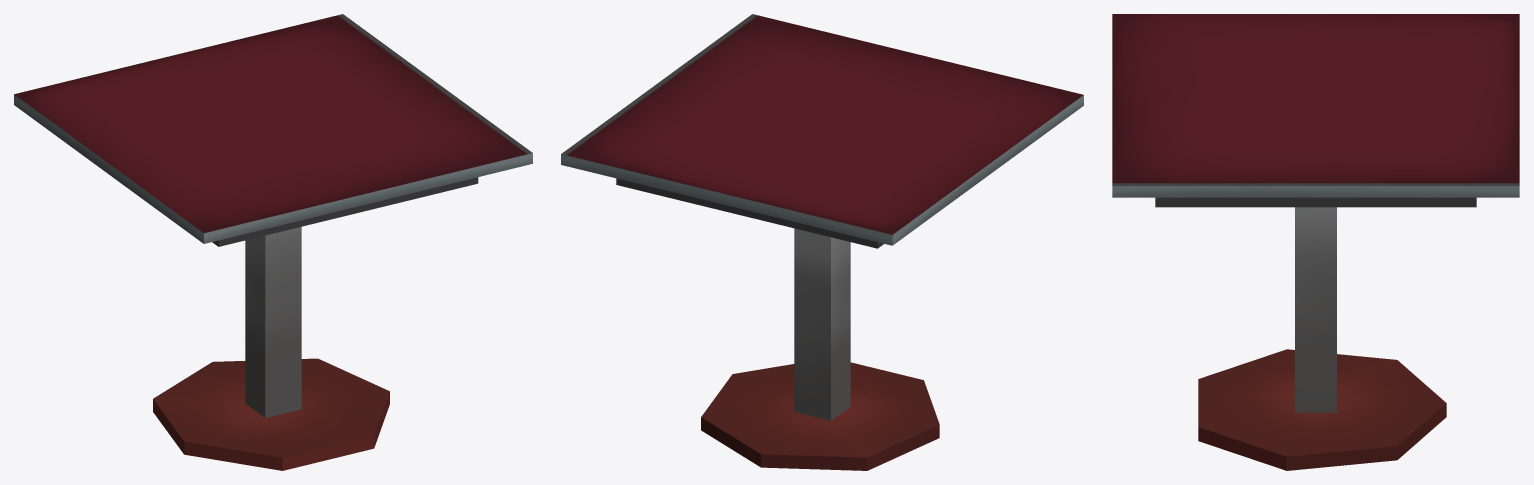
Rendered from CityKit_RestaurantTable.fbx.
3 renders of one model, left to right at view 1: azimuth 30°, elevation 25°; view 2: azimuth 150°, elevation 25°; view 3: azimuth 270°, elevation 25°, orthographic. The views are drawn at different scales.
Parts seen in each view (by area): view 1: RestaurantTable; view 2: RestaurantTable; view 3: RestaurantTable.
Part boxes in pixels (bbox=[...]): RestaurantTable: bbox=[14, 14, 532, 470]; RestaurantTable: bbox=[561, 14, 1083, 470]; RestaurantTable: bbox=[1112, 14, 1519, 470].
Bounding box in the file's own units: 373 × 321 × 373.
Materials: 1 (1 with a texture image).
